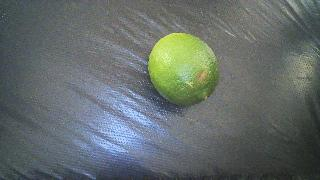DESECHO: (148, 33, 219, 106)
